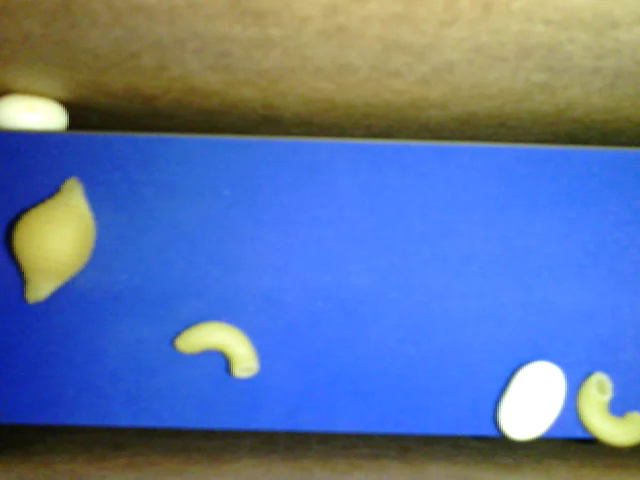elbow: (173, 320, 260, 379), (576, 371, 639, 445)
shell: (9, 176, 96, 304)
